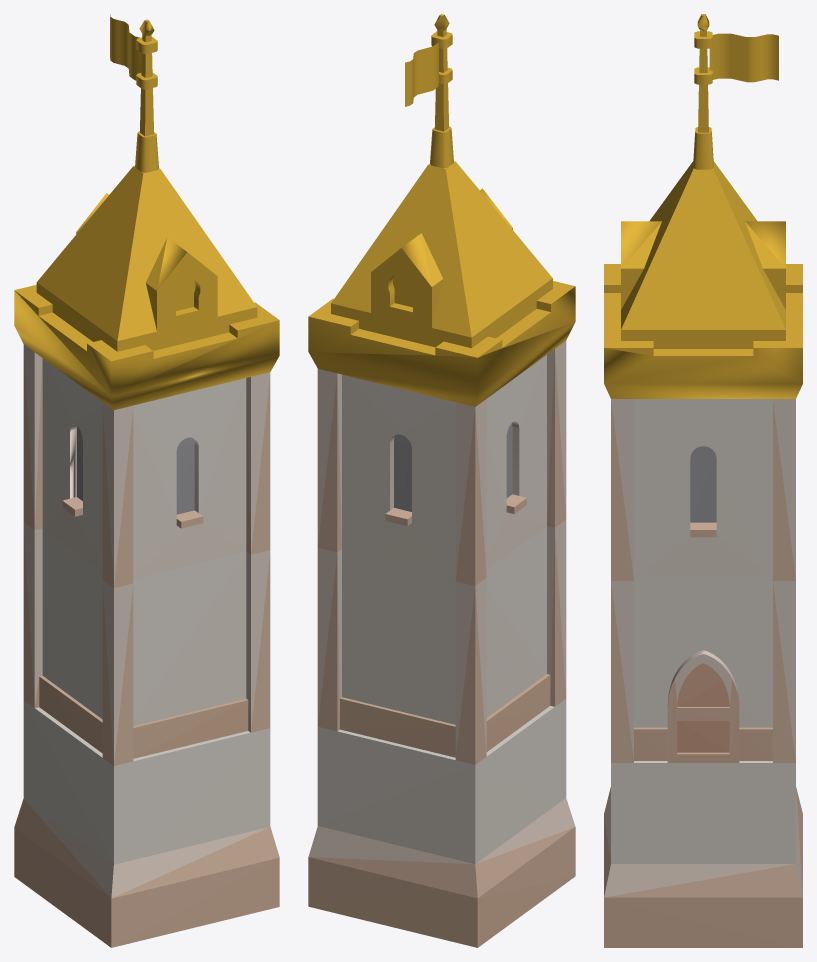
The model's file is dtower_l2.glb.
The picture shows the model from 3 angles, left to right: view 1: azimuth 30°, elevation 25°; view 2: azimuth 150°, elevation 25°; view 3: azimuth 270°, elevation 25°; orthographic projection. The views are drawn at different scales.
Visible parts, largest first — view 1: dtower_l2; view 2: dtower_l2; view 3: dtower_l2.
Boxes of the visible parts, x1,y1,x2,y2 form: dtower_l2: (14,14,279,947); dtower_l2: (308,14,575,947); dtower_l2: (604,14,802,947).
Size of the model in its own units: 1.6 by 7.91 by 1.6.
